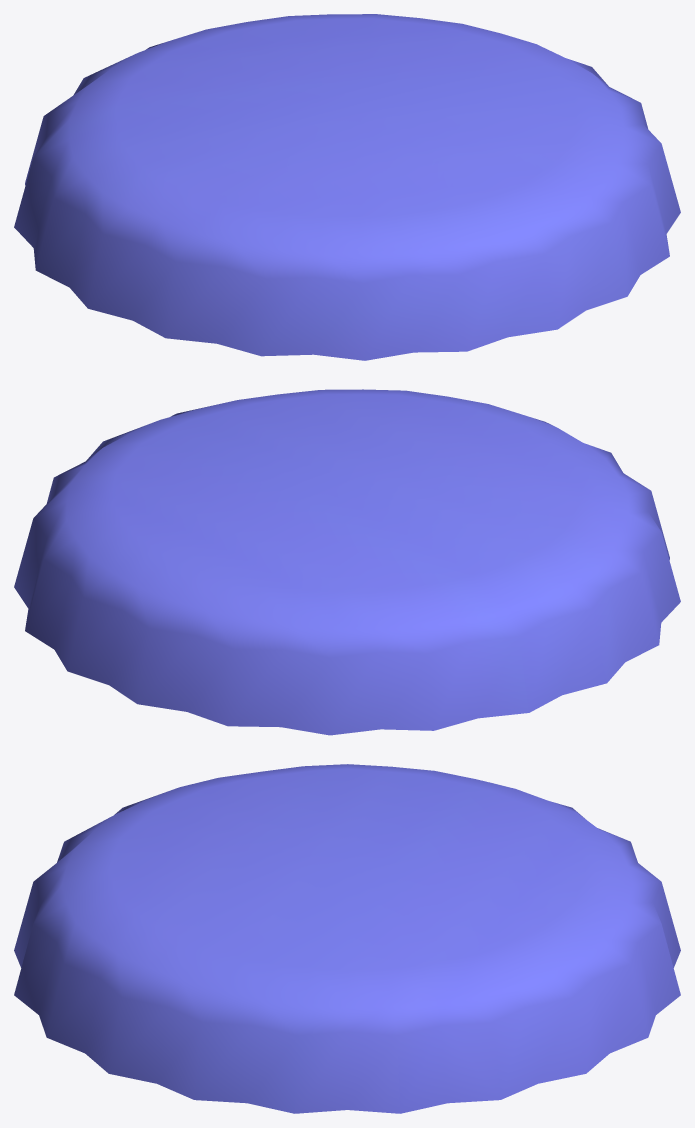
Rendered from SM_Capsule_LP_Trim.fbx.
The picture shows the model from 3 angles, top to bottom: view 1: azimuth 30°, elevation 25°; view 2: azimuth 150°, elevation 25°; view 3: azimuth 270°, elevation 25°; orthographic projection.
Parts seen in each view (by area): view 1: Capsule_LP2; view 2: Capsule_LP2; view 3: Capsule_LP2.
Boxes of the visible parts, x1,y1,x2,y2 form: Capsule_LP2: (14,14,680,360); Capsule_LP2: (14,389,680,735); Capsule_LP2: (14,764,680,1113).
Size of the model in its own units: 3.96 by 0.7543 by 3.96.
1 material, 1 textured.
